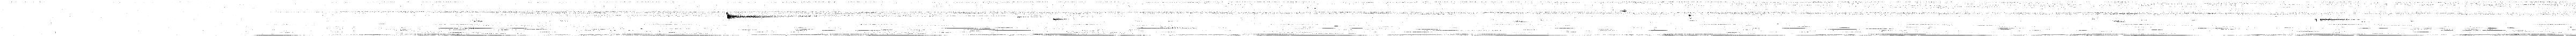meteor: (727, 12, 776, 19)
